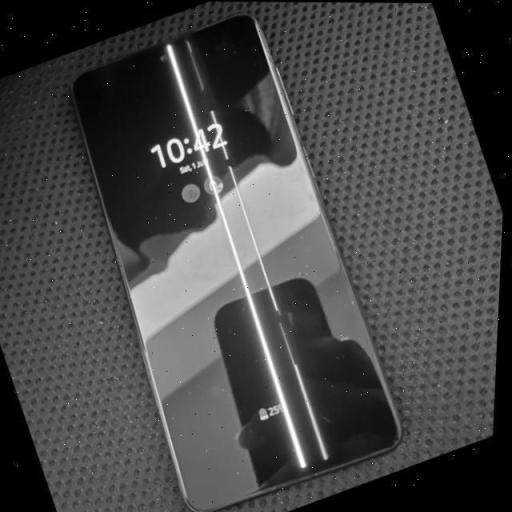phone: (75, 13, 407, 511)
